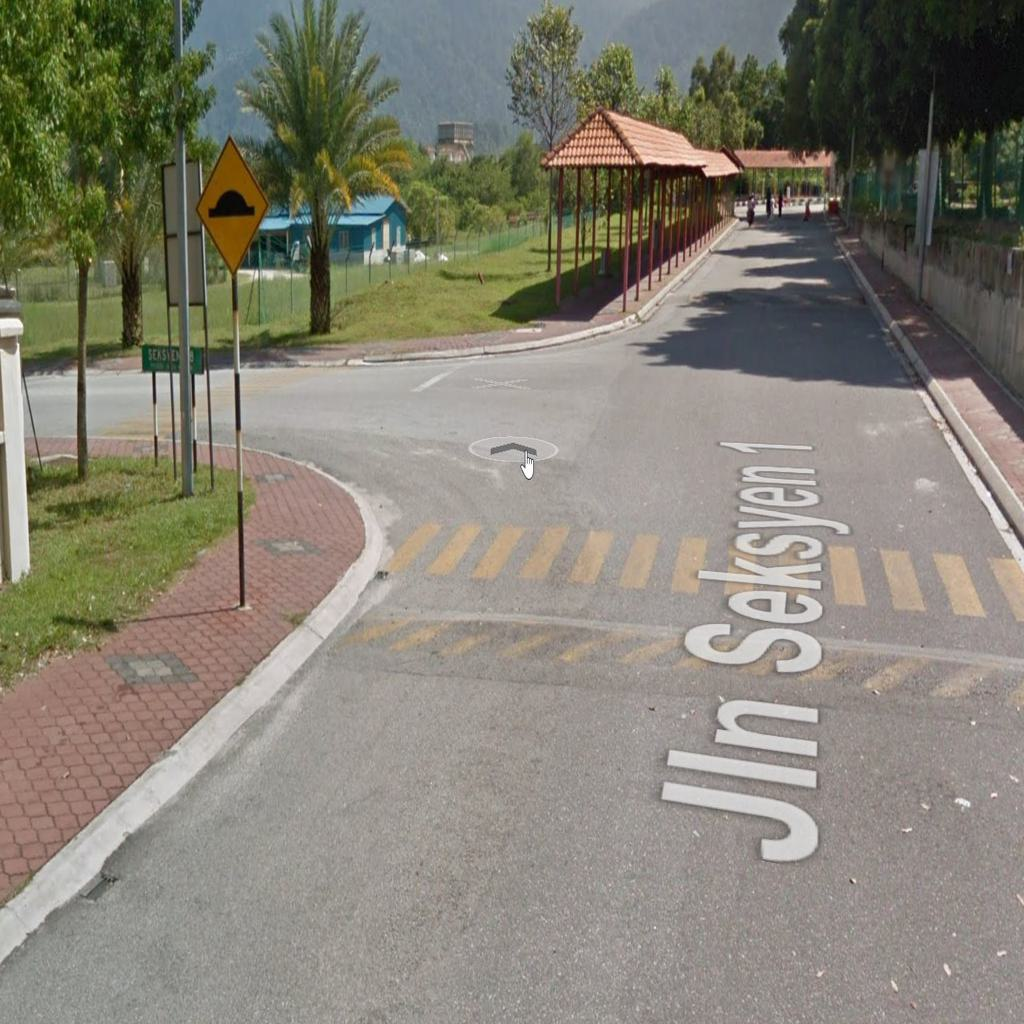Junction: (89, 326, 598, 543)
